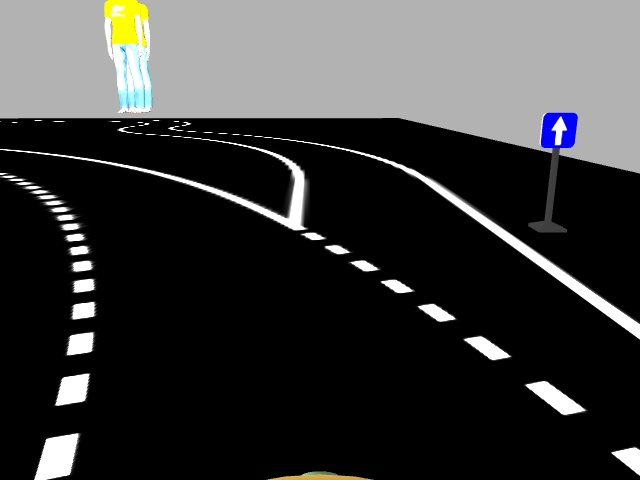OneWay: (541, 111, 576, 146)
